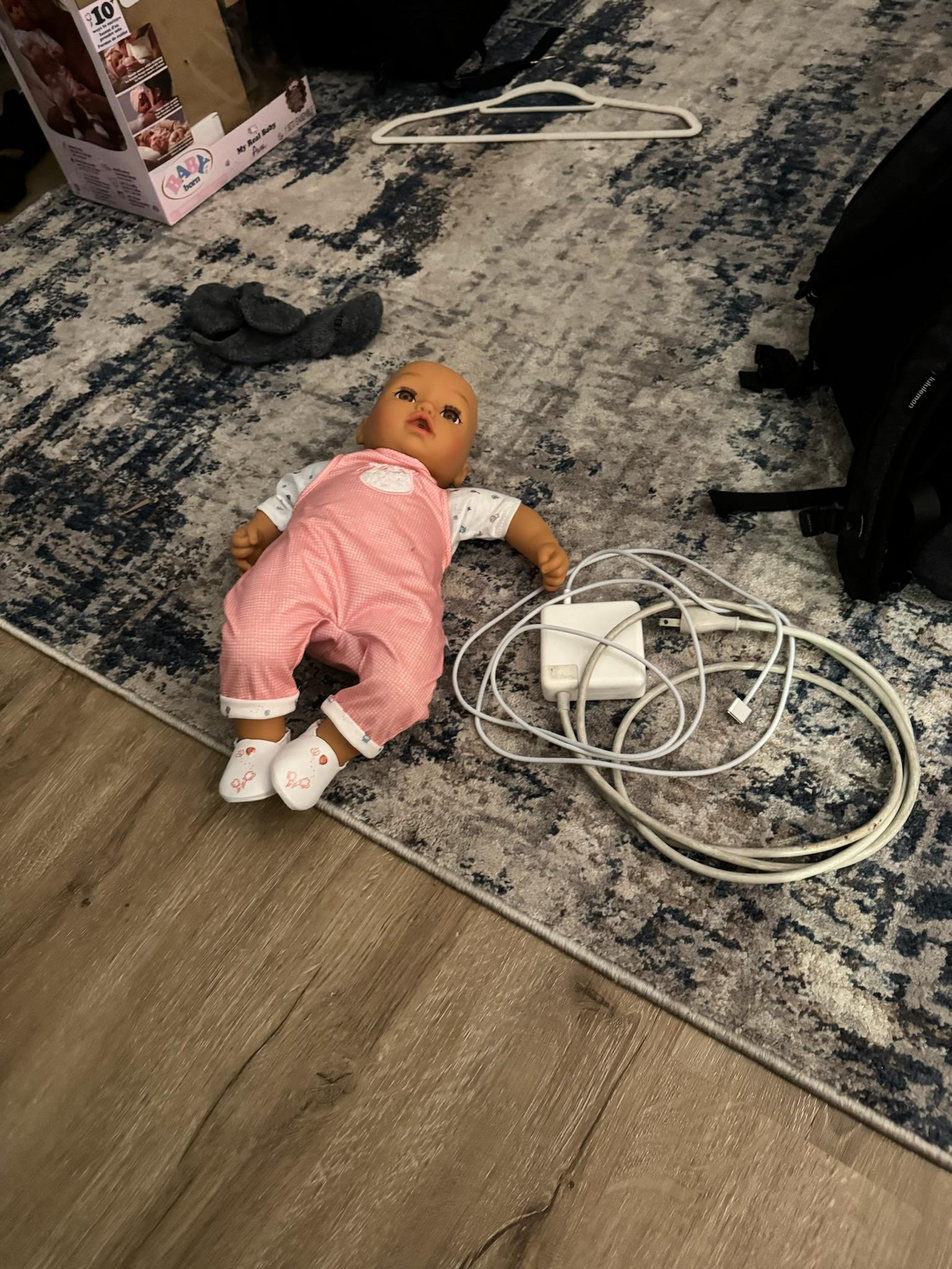baby: (198, 357, 529, 824)
